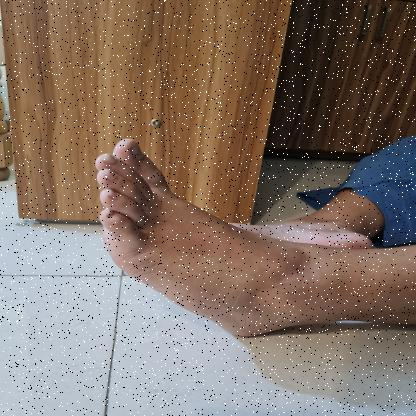leg: (84, 133, 416, 344)
